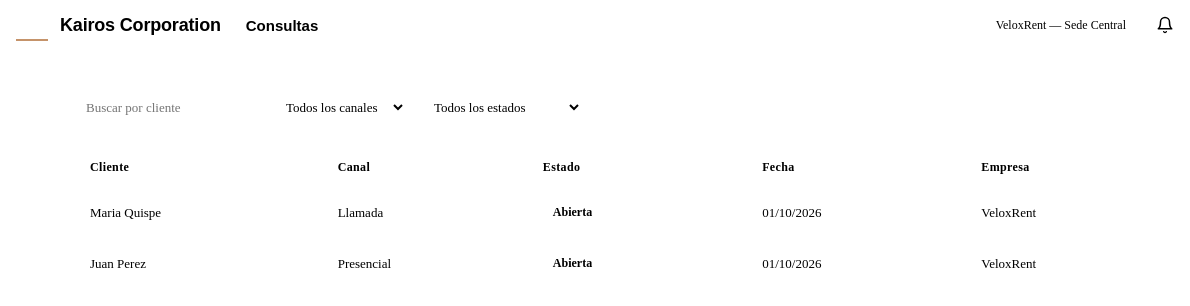
Scenario: InquiriesListScreen (CON-01) › el filtro de cliente no envia el texto como customerId y filtra por nombre
Expected: the text "Maria Quispe" is shown, [74,187,322,238]
Expected: the text "Juan Perez" is shown, [74,238,322,289]
In the field named "Filtrar por cliente": (166, 108) [74,91,258,124], type "maria"
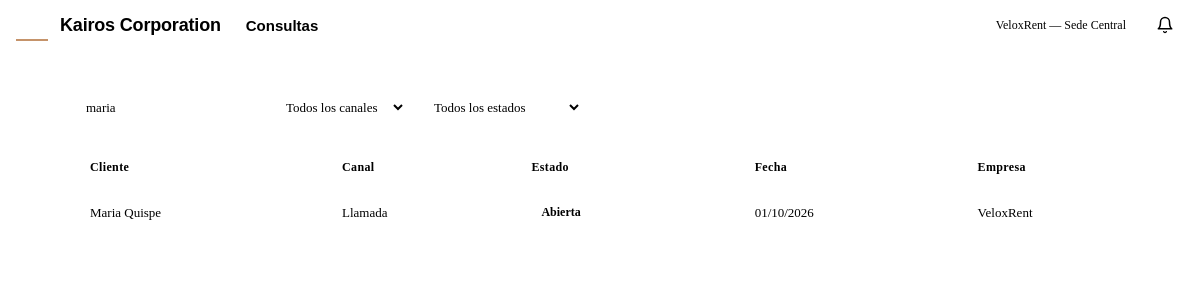
Expected: the text "Maria Quispe" is shown, [74,187,326,238]
Now the text "Juan Perez" is gone
